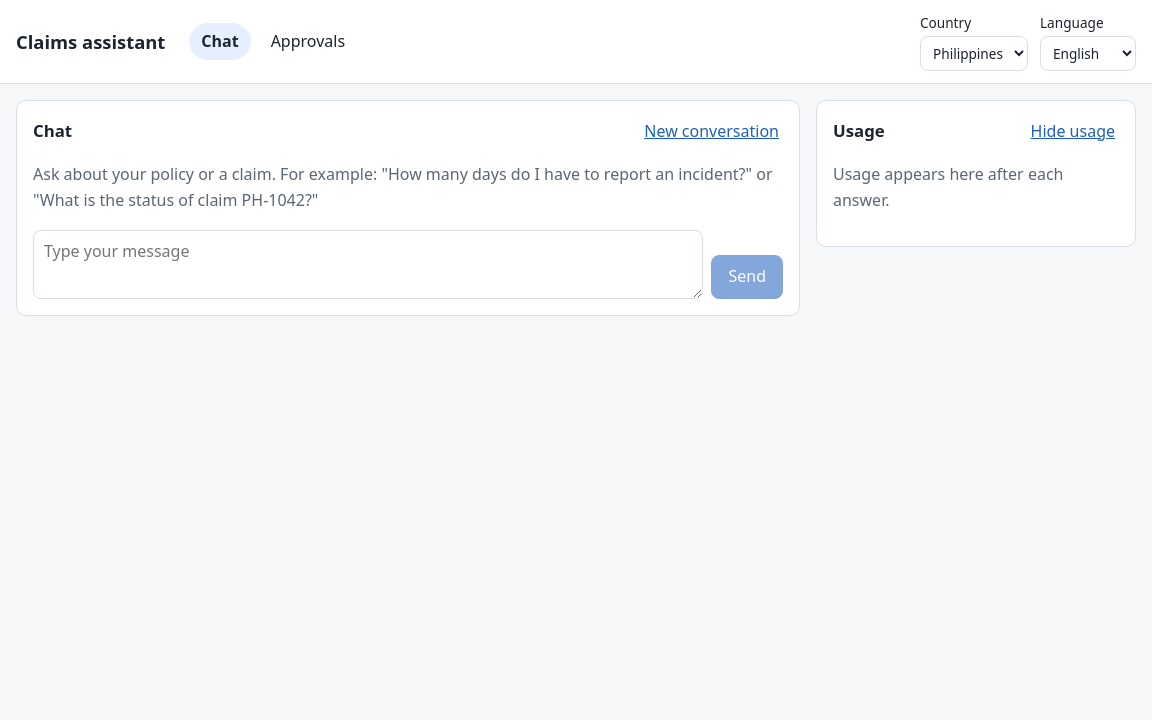
source documents › opens a cited document
Type "deadline" into the text box labelled "Type your message". click: point(368, 264)
box: [33,230,704,299]
Then press Enter
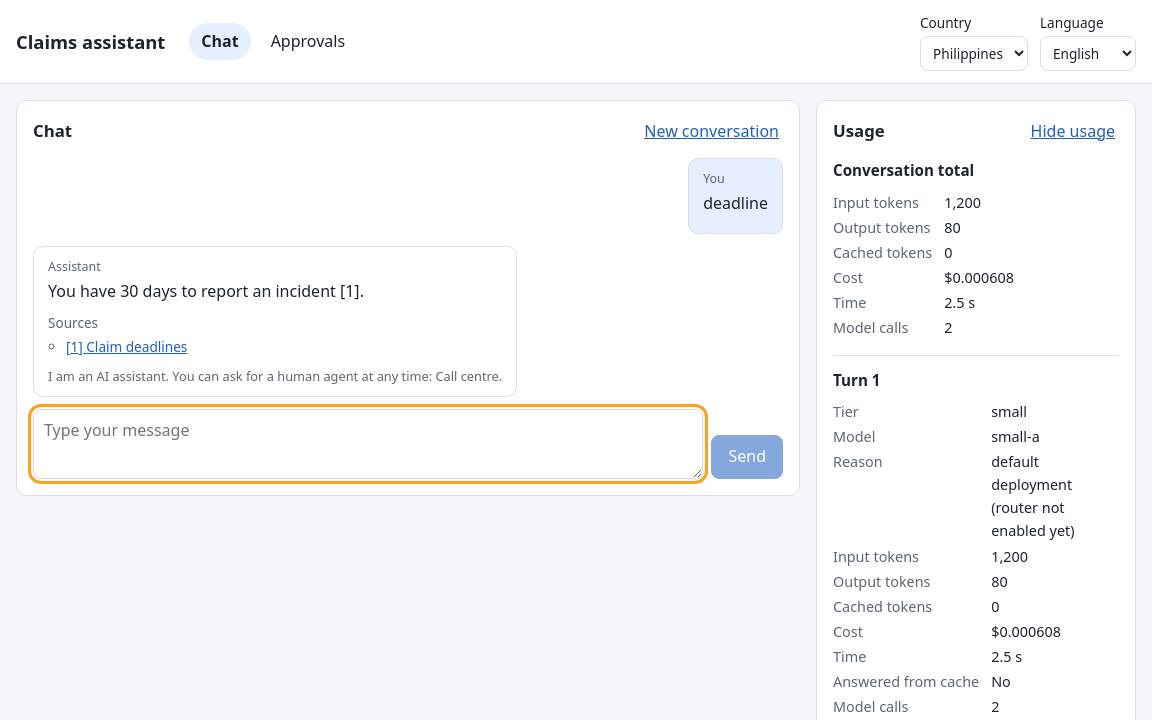
Click the link "[1] Claim deadlines". click: point(68, 347)
box: [66,337,187,356]
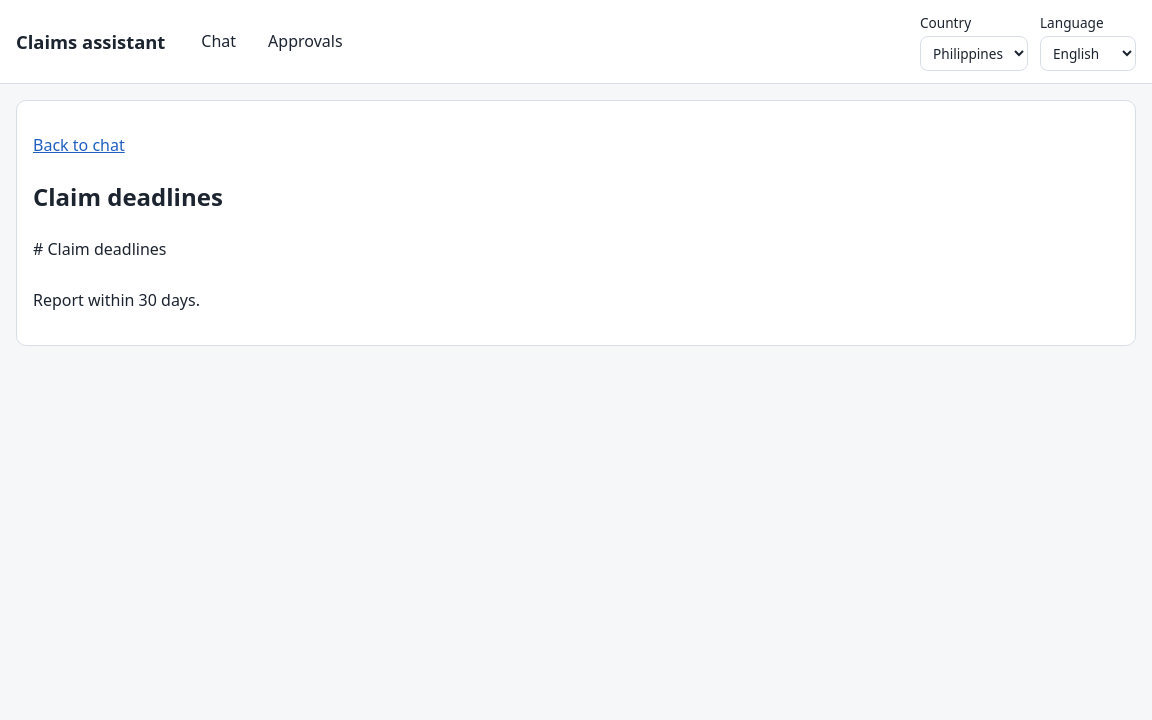
Result: the heading "Claim deadlines" is shown at [33,180,223,213]
Result: the text "# Claim deadlines Report within 30 days." is shown at [33,238,200,311]
